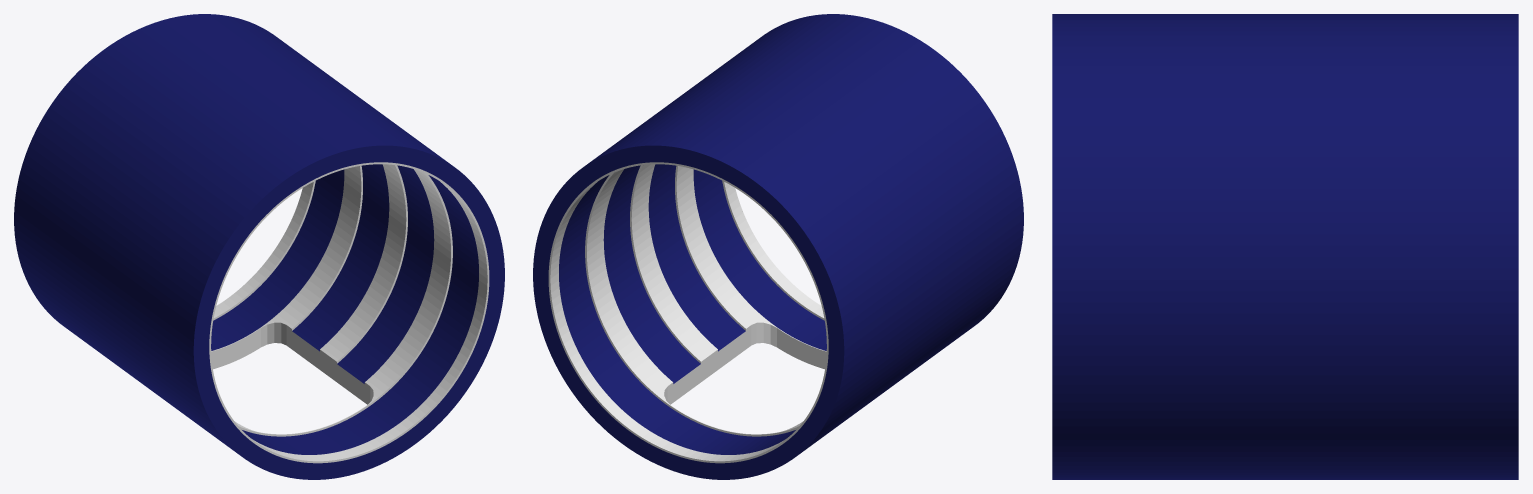
The model's file is tunnel_with_hole.fbx.
3 renders of one model, left to right at view 1: azimuth 30°, elevation 25°; view 2: azimuth 150°, elevation 25°; view 3: azimuth 270°, elevation 25°, orthographic. The views are drawn at different scales.
Visible parts, largest first — view 1: Цилиндр; view 2: Цилиндр; view 3: Цилиндр.
Part boxes in pixels (x1,y1,x2,y2): Цилиндр: [14, 14, 504, 479]; Цилиндр: [533, 14, 1023, 479]; Цилиндр: [1052, 14, 1518, 479].
Bounding box in the file's own units: 800 × 800 × 800.
